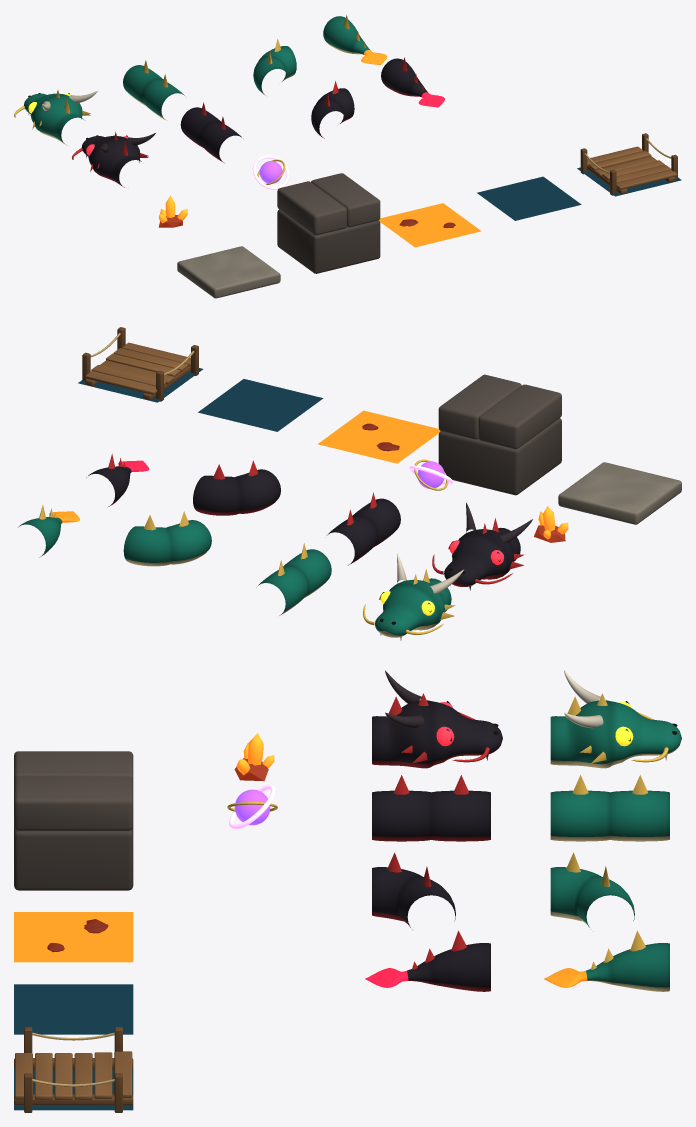
File: dragon_kit.glb
3 renders of one model, top to bottom at view 1: azimuth 30°, elevation 25°; view 2: azimuth 150°, elevation 25°; view 3: azimuth 270°, elevation 25°, orthographic. The views are drawn at different scales.
Visible parts, largest first — view 1: wall, bridge, floor, water, lava, rival_head, head, rival_straight, straight, rival_tail, tail, rival_turn (+3 smaller); view 2: wall, bridge, floor, head, rival_head, water, lava, turn, rival_turn, rival_straight, straight, tail (+3 smaller); view 3: wall, bridge, head, rival_head, straight, rival_straight, lava, water, tail, rival_tail, turn, rival_turn (+2 smaller).
Part boxes in pixels (x1,y1,x2,y2): wall: [277, 173, 380, 273]; bridge: [577, 133, 681, 196]; floor: [177, 246, 280, 298]; water: [477, 176, 581, 220]; lava: [379, 203, 481, 247]; rival_head: [72, 131, 155, 187]; head: [14, 90, 98, 145]; rival_straight: [180, 102, 241, 162]; straight: [123, 60, 184, 120]; rival_tail: [381, 57, 444, 107]; tail: [323, 15, 387, 64]; rival_turn: [311, 81, 354, 138]; wall: [438, 374, 561, 495]; bridge: [78, 327, 203, 402]; floor: [558, 462, 681, 524]; head: [363, 553, 463, 640]; rival_head: [432, 502, 532, 590]; water: [198, 379, 323, 431]; lava: [318, 410, 440, 463]; turn: [123, 511, 211, 566]; rival_turn: [193, 460, 280, 515]; rival_straight: [326, 492, 400, 565]; straight: [256, 543, 331, 615]; tail: [18, 505, 79, 557]; wall: [14, 751, 133, 890]; bridge: [14, 1027, 133, 1112]; head: [550, 670, 681, 768]; rival_head: [372, 670, 502, 768]; straight: [550, 775, 669, 841]; rival_straight: [372, 775, 490, 841]; lava: [14, 912, 133, 962]; water: [14, 984, 133, 1034]; tail: [544, 930, 669, 991]; rival_tail: [365, 930, 490, 991]; turn: [550, 852, 634, 931]; rival_turn: [372, 852, 455, 929].
Bounding box in the file's own units: 7 × 0.925 × 5.6.
